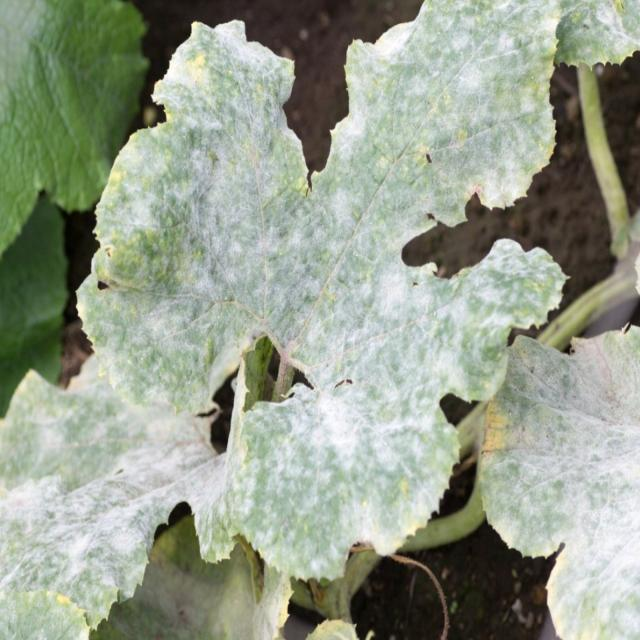Powdery Mildew: (73, 1, 571, 588), (477, 321, 639, 638)
